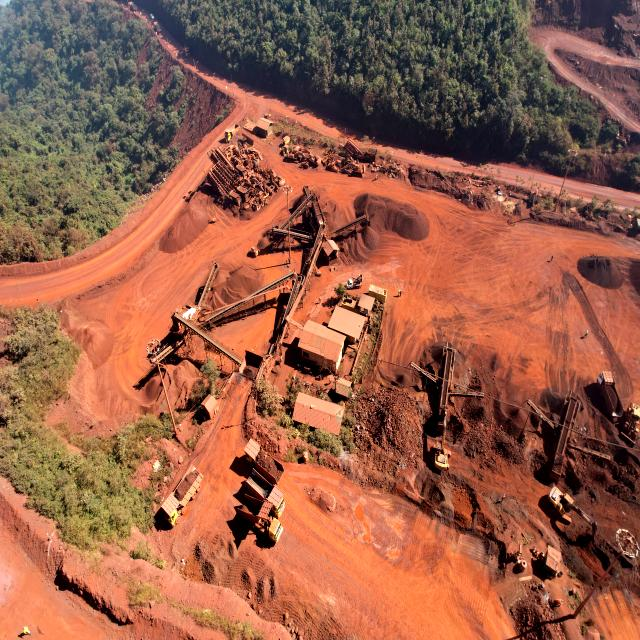Dumper truck: (162, 466, 202, 526), (242, 440, 280, 481), (238, 505, 277, 534), (243, 480, 278, 511), (598, 371, 622, 416), (225, 122, 236, 142), (19, 625, 32, 638), (181, 44, 190, 56), (153, 20, 162, 32), (128, 0, 137, 10)
Excavator: (546, 485, 594, 539), (421, 396, 453, 472), (424, 427, 451, 471), (550, 489, 572, 521)
car: (150, 13, 154, 18)
person: (501, 493, 505, 503), (559, 598, 563, 607), (536, 549, 539, 559), (533, 545, 536, 554), (552, 254, 554, 262), (586, 330, 588, 338), (398, 290, 400, 297), (375, 174, 377, 181), (400, 290, 401, 296), (377, 174, 378, 180)
